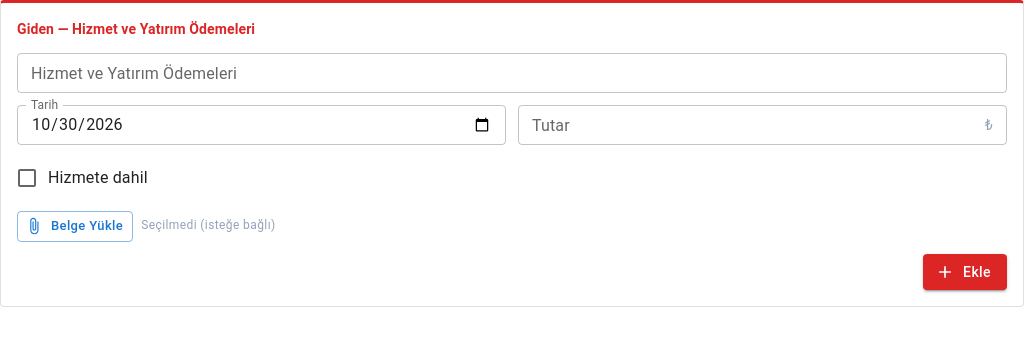
CariHareketFormu › anlaşılamayan tutar kaydedilmez
Type "Harç" into the field labelled "Hizmet ve Yatırım Ödemeleri" at (512, 73), box [17,53,1007,93]
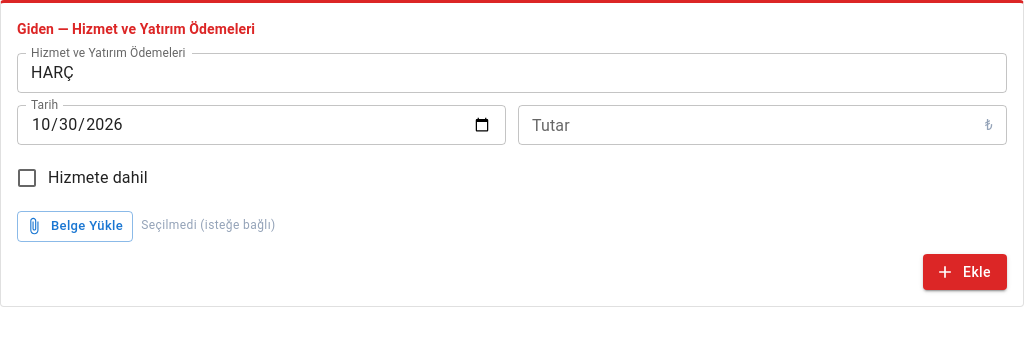
Type "1234.567" into the field labelled "Tutar" at (750, 125), box [518,105,981,145]
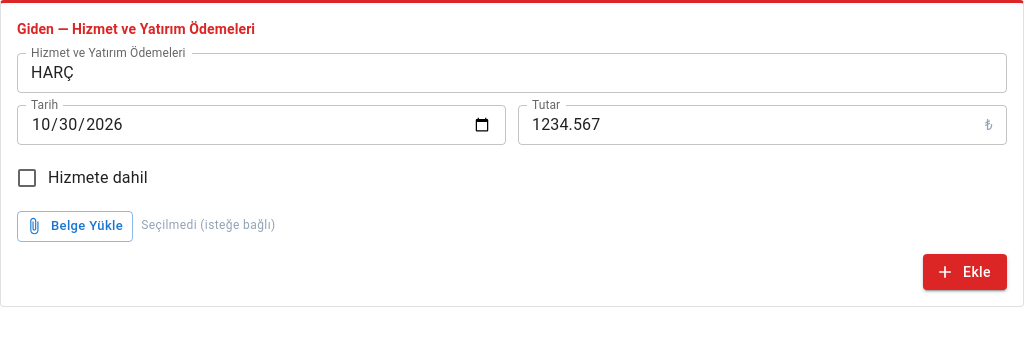
Click the button "Ekle" at (965, 272), box [923,254,1007,290]
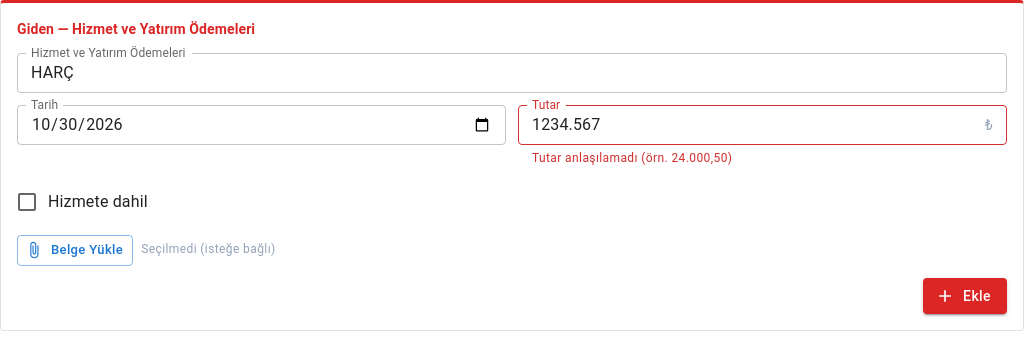
Result: the text "Tutar anlaşılamadı (örn. 24.000,50)" is shown at [532,151,732,165]
